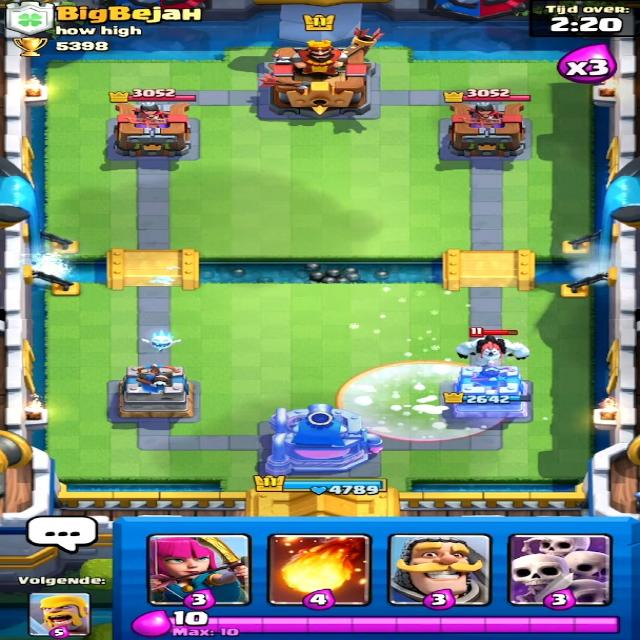Enemy_Ice_Golem_Troop: (459, 334, 530, 371)
Enemy_Ice_Spirit_Troop: (142, 328, 179, 352)
Fireball_Card: (276, 534, 364, 606)
